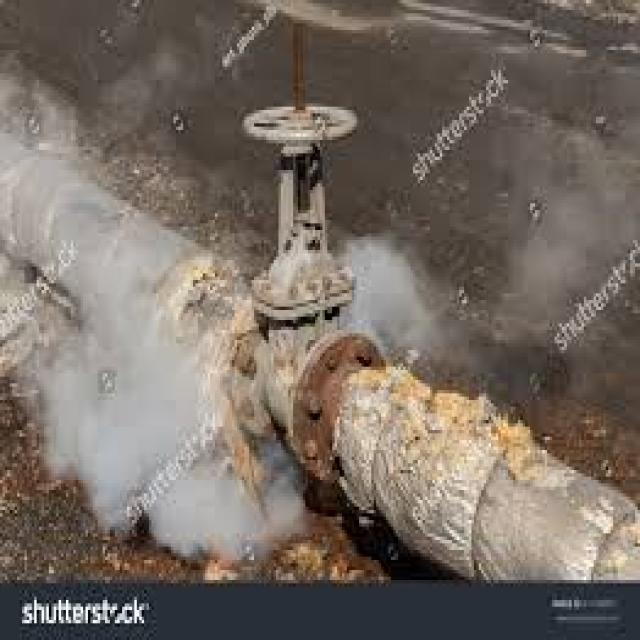corrosion: (177, 243, 405, 515)
